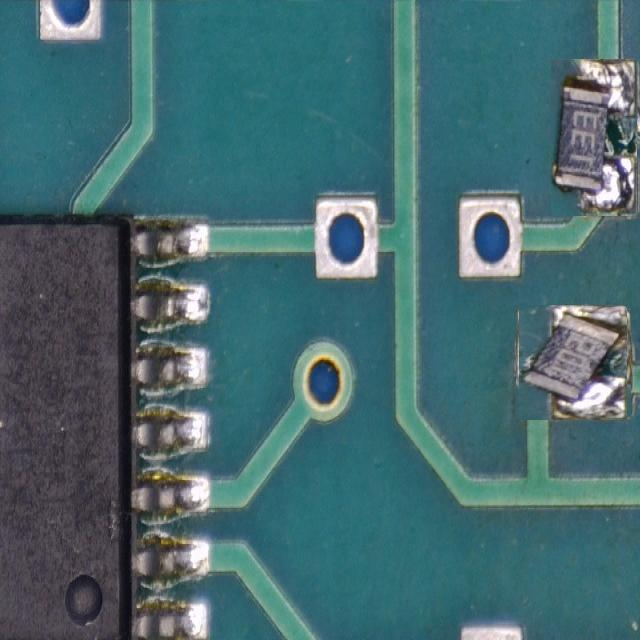Incorrect_installation: (552, 61, 637, 216), (520, 305, 626, 419)
